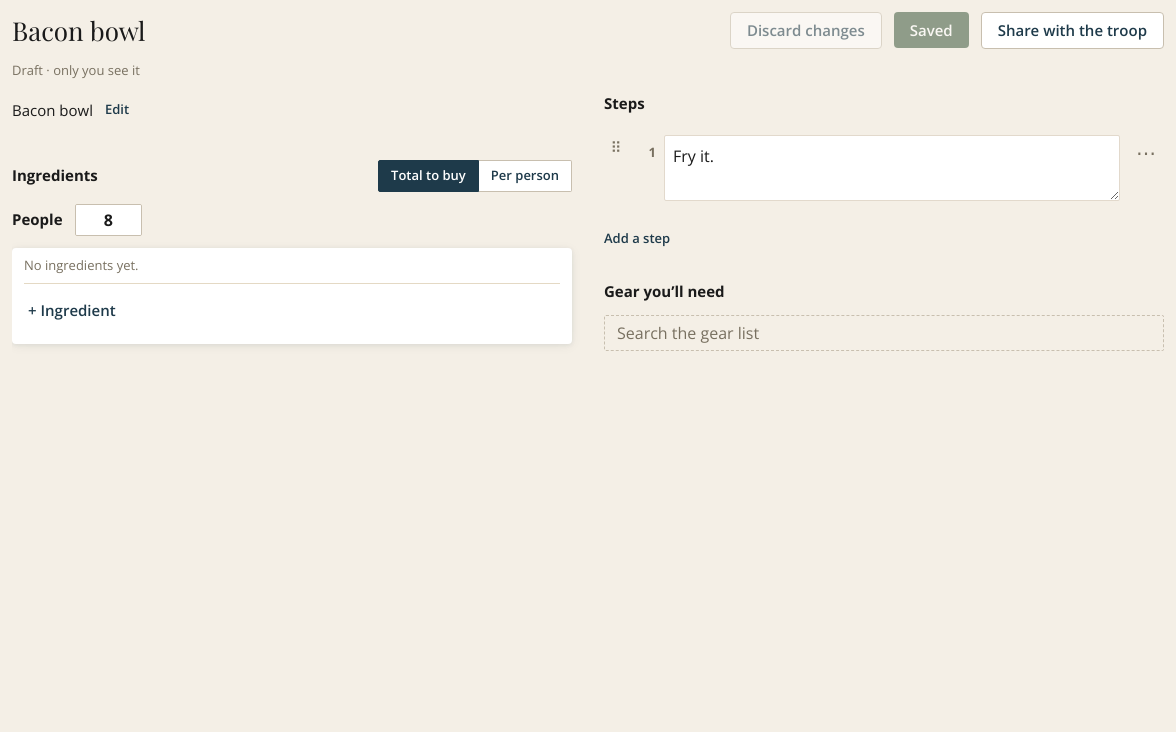
Test case: RecipeEditor sharing › Scout_SeesWhichFieldIsBad_WhenSharingAnIncompleteRecipe
What coordinates should you click on to do the following:
click the button "Share with the troop"
I would click on:
 (1072, 30)
Its box is [981,12,1164,48].
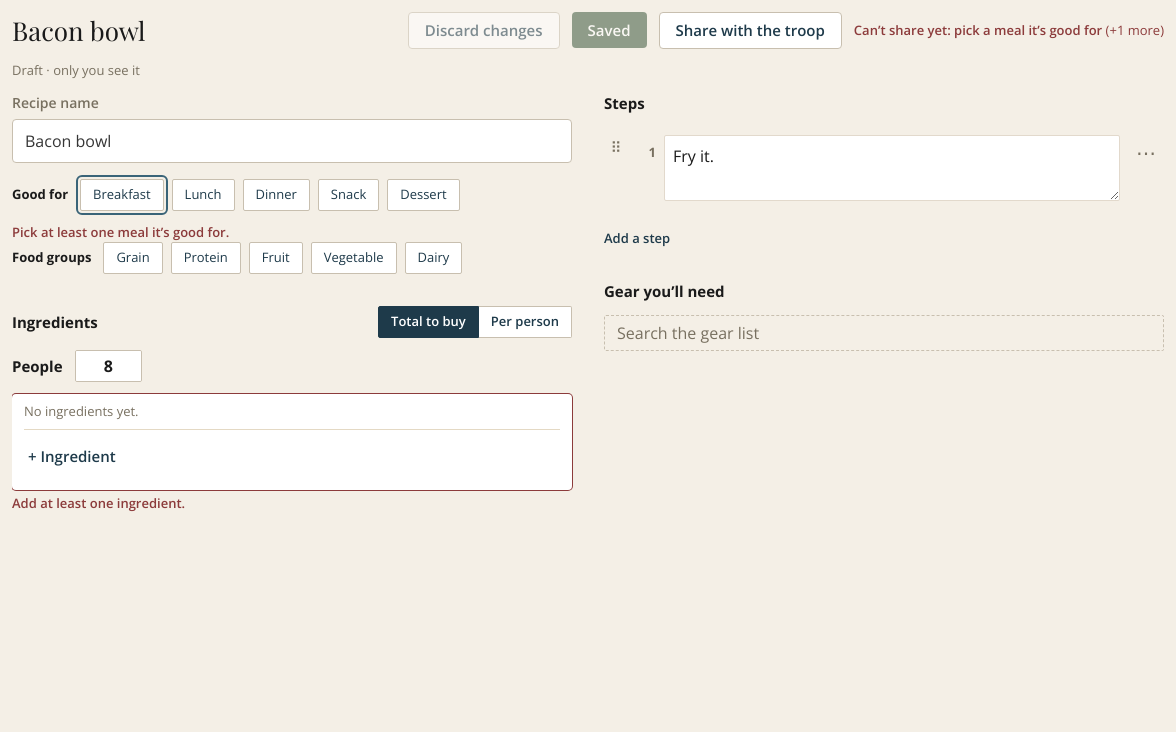
Now the text "Pick at least one meal it’s good for." is shown, box [12,223,229,241]
Now the text "Add at least one ingredient." is shown, box [12,494,185,512]
Now the message reads "Can’t share yet: pick a meal it’s good for (+1 more)", box [854,20,1164,40]
